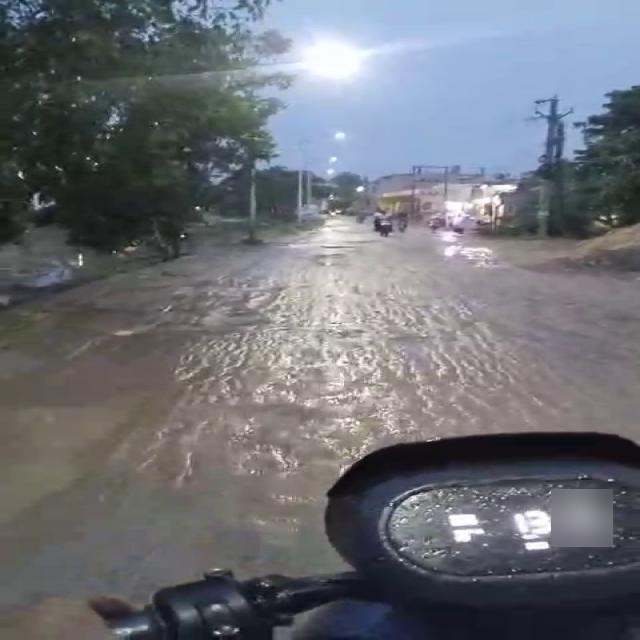pothole: (3, 403, 152, 507), (228, 441, 305, 477), (442, 238, 504, 273), (247, 518, 311, 543), (314, 242, 362, 250)
